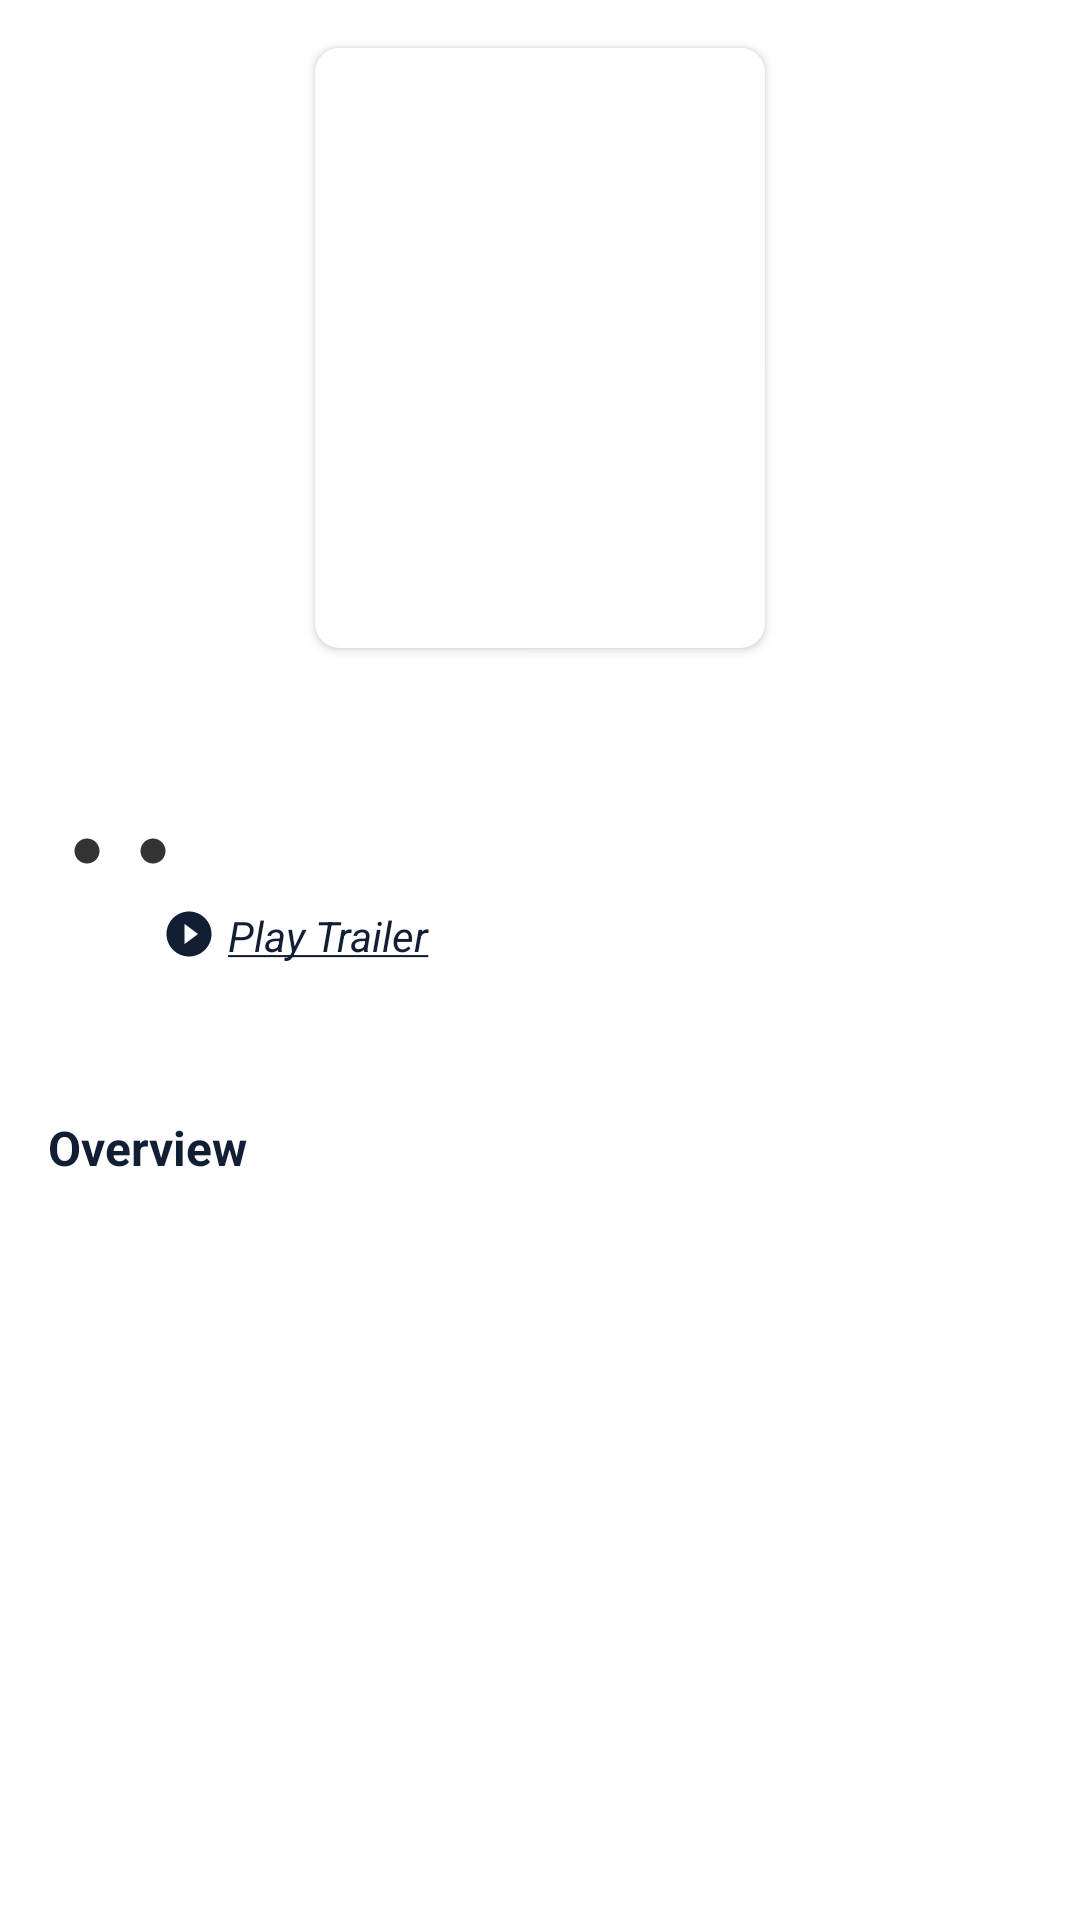

Icons on this 1080 × 1920 Android screen, each with the point to tap as (x,y):
play circle: (189,934)
